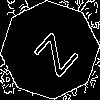Z: (25, 25, 79, 79)
